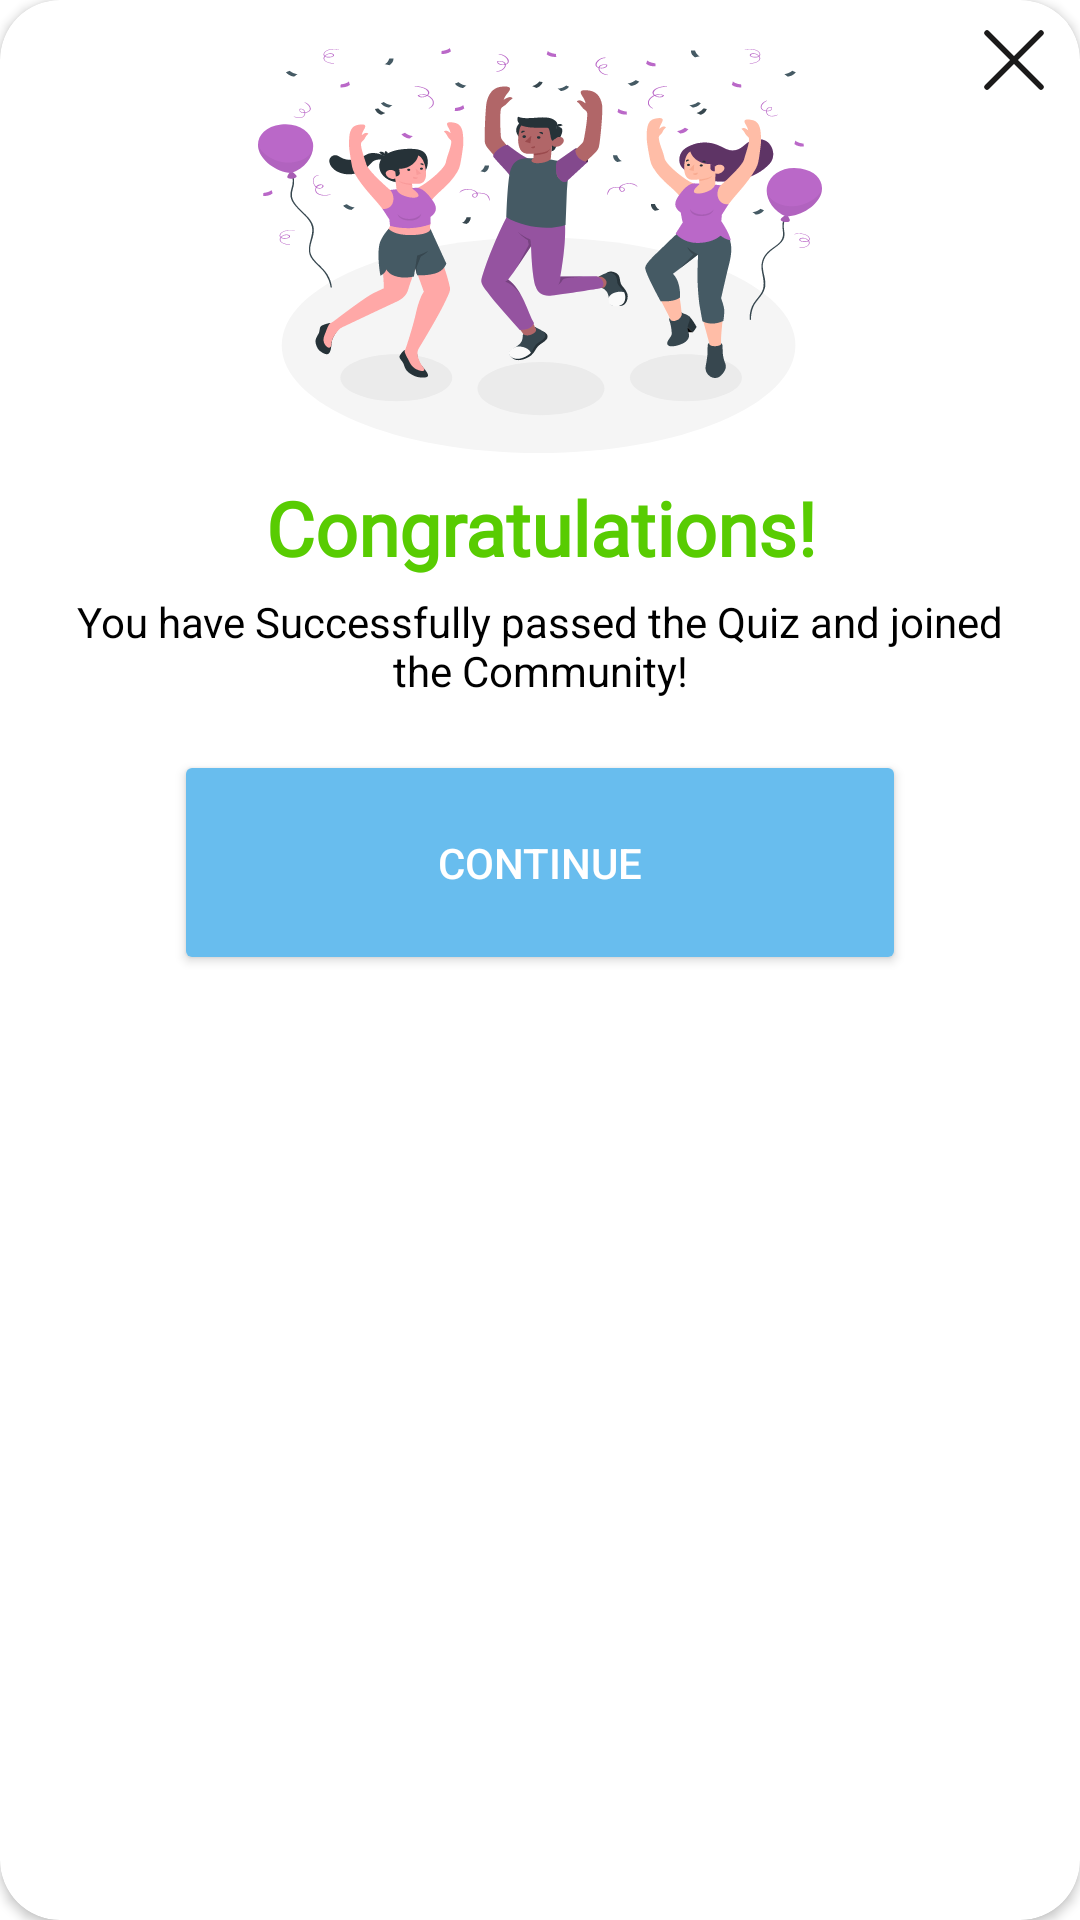

Screen size 1080px×1920px. Icon name, then its box in pixels as bbox=(x1, y1, x2, y2):
cross: bbox=(984, 1, 1080, 90)
